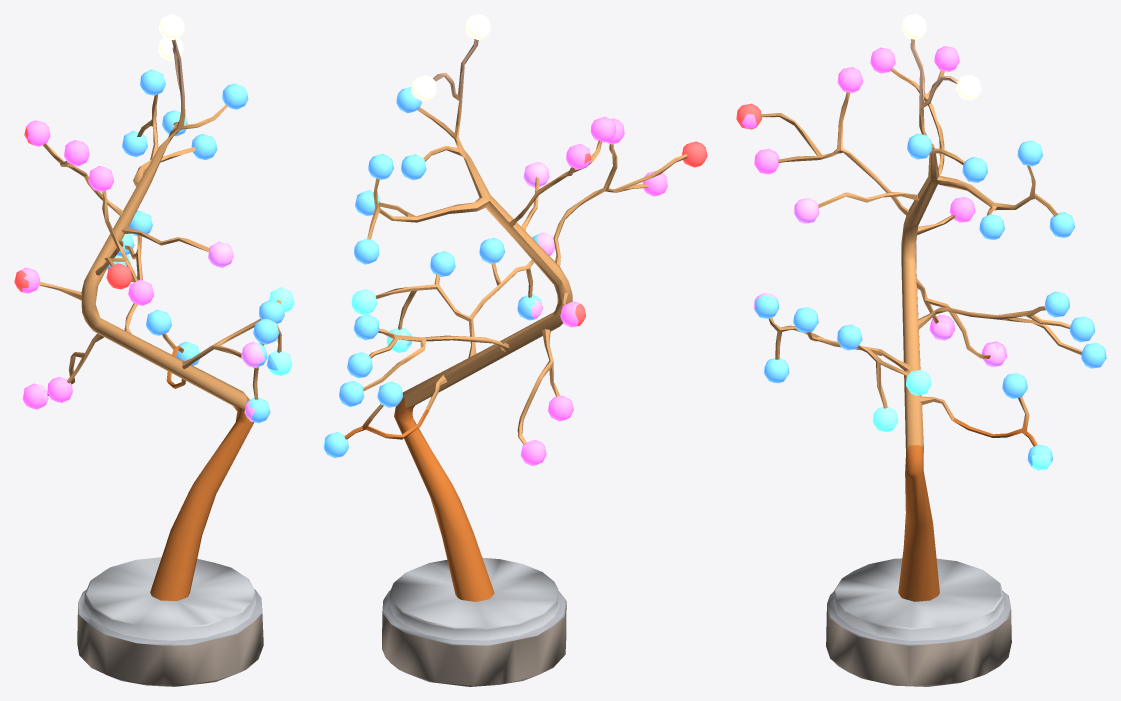
The model's file is luminaria_arvore_bolinhas_pacote.glb.
The picture shows the model from 3 angles, left to right: view 1: azimuth 30°, elevation 25°; view 2: azimuth 150°, elevation 25°; view 3: azimuth 270°, elevation 25°; orthographic projection.
Visible parts, largest first — view 1: luminaria_arvore_bolinhas_pacote; view 2: luminaria_arvore_bolinhas_pacote; view 3: luminaria_arvore_bolinhas_pacote.
Boxes of the visible parts, <box> form: luminaria_arvore_bolinhas_pacote: <box>14,14,294,686</box>; luminaria_arvore_bolinhas_pacote: <box>323,14,707,686</box>; luminaria_arvore_bolinhas_pacote: <box>736,14,1106,686</box>.
Size of the model in its own units: 0.2523 by 0.5687 by 0.3015.
Materials: 7 (1 with a texture image).
